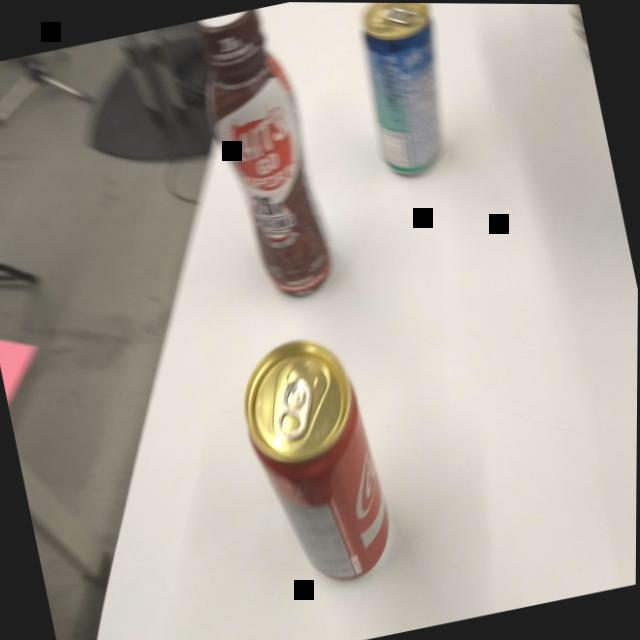chocolate_drink: (182, 2, 347, 318)
coke: (224, 322, 410, 597)
sprite: (341, 2, 471, 194)
